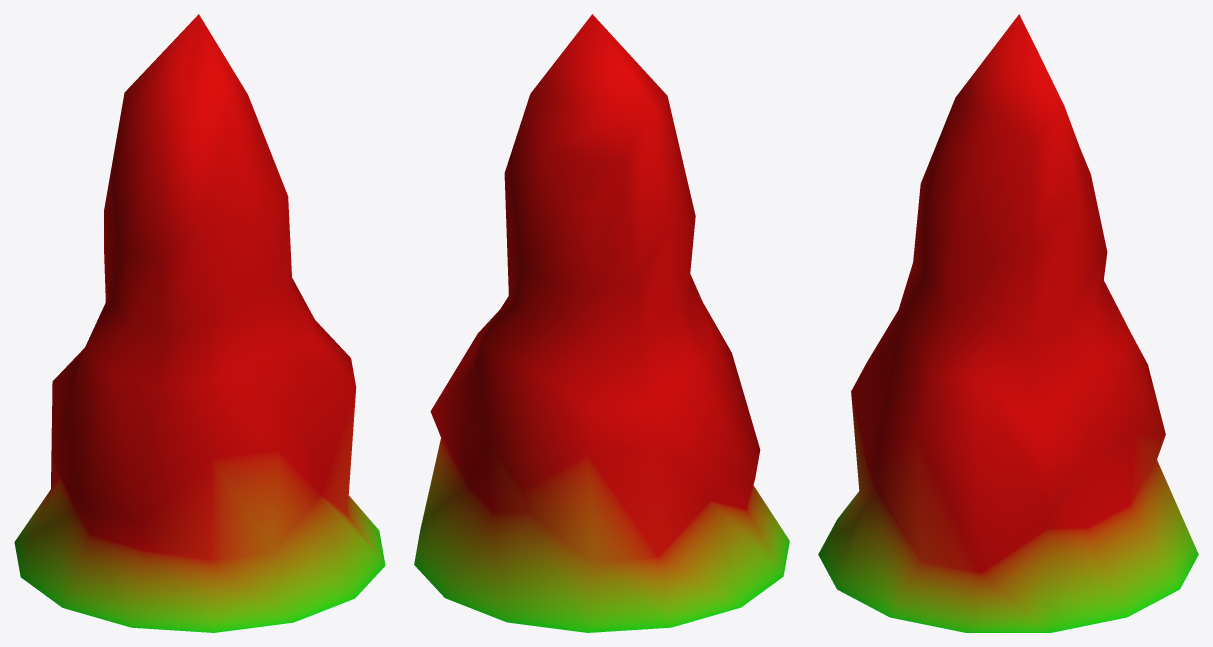
File: Spike Boulder Rough.fbx
3 renders of one model, left to right at view 1: azimuth 30°, elevation 25°; view 2: azimuth 150°, elevation 25°; view 3: azimuth 270°, elevation 25°, orthographic.
Parts seen in each view (by area): view 1: Spike Boulder Rough 2; view 2: Spike Boulder Rough 2; view 3: Spike Boulder Rough 2.
Boxes of the visible parts, <box> form: Spike Boulder Rough 2: <box>14,14,385,632</box>; Spike Boulder Rough 2: <box>414,14,789,632</box>; Spike Boulder Rough 2: <box>818,14,1198,632</box>.
Size of the model in its own units: 865 by 1396 by 888.
